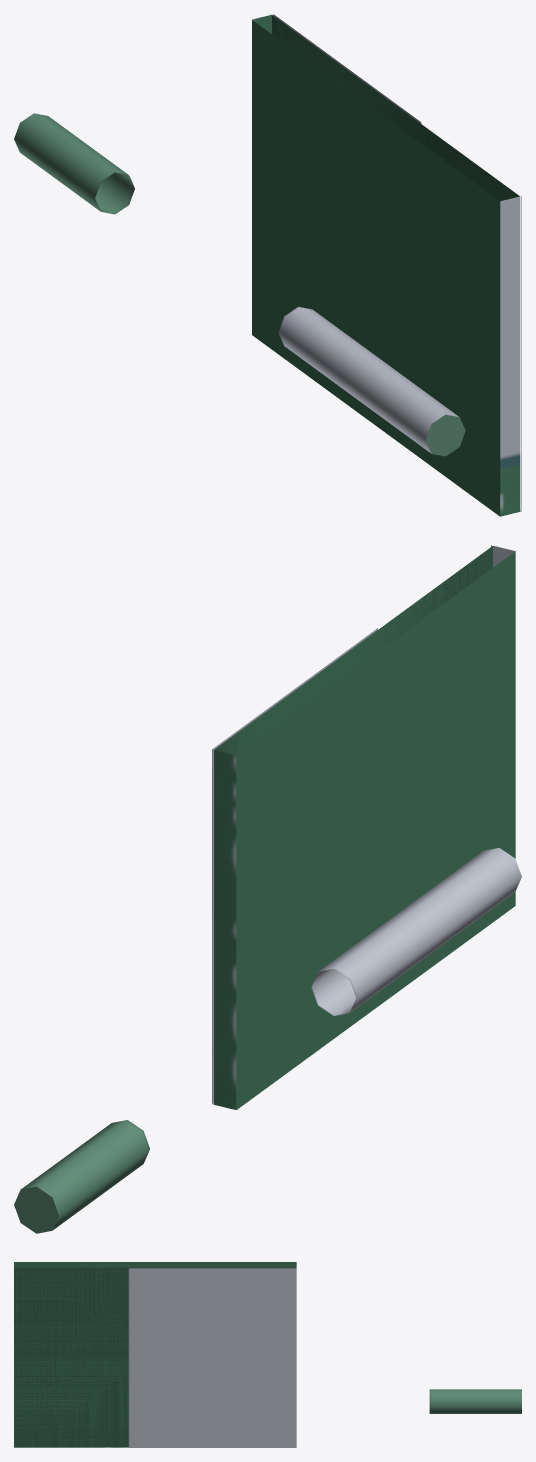
The model's file is section-1.obj.
3 renders of one model, top to bottom at view 1: azimuth 30°, elevation 25°; view 2: azimuth 150°, elevation 25°; view 3: azimuth 270°, elevation 25°, orthographic. The views are drawn at different scales.
Size of the model in its own units: 0.139 by 0.6765 by 1.73.
